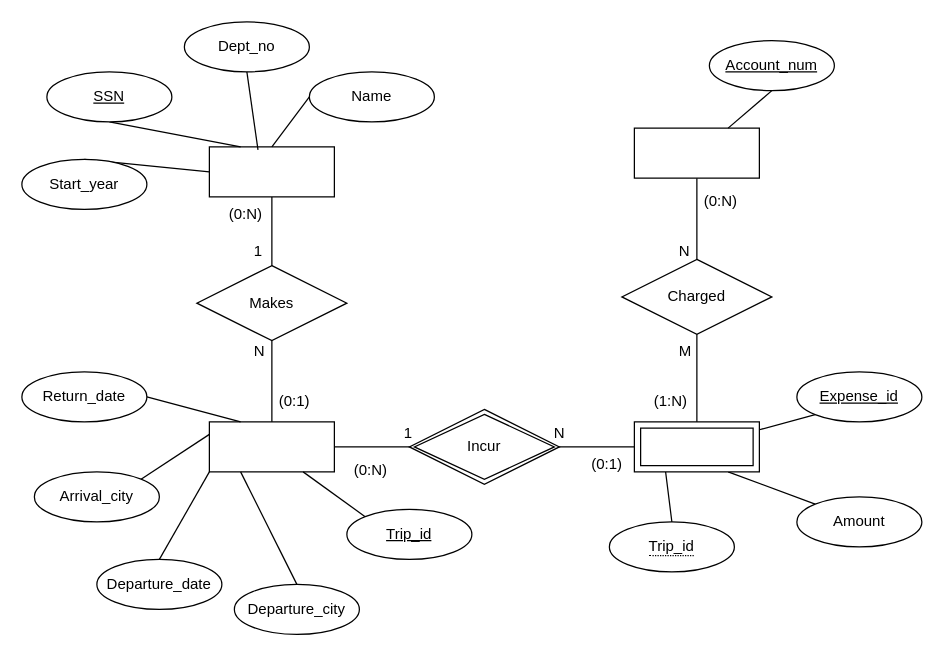
This 944x656 diagram has some shape labels left out. Each missing label, with the centre of its shape:
Account: the point at 696,152
Expense: the point at 696,446
SalesPerson: the point at 271,171
Trip: the point at 271,446
